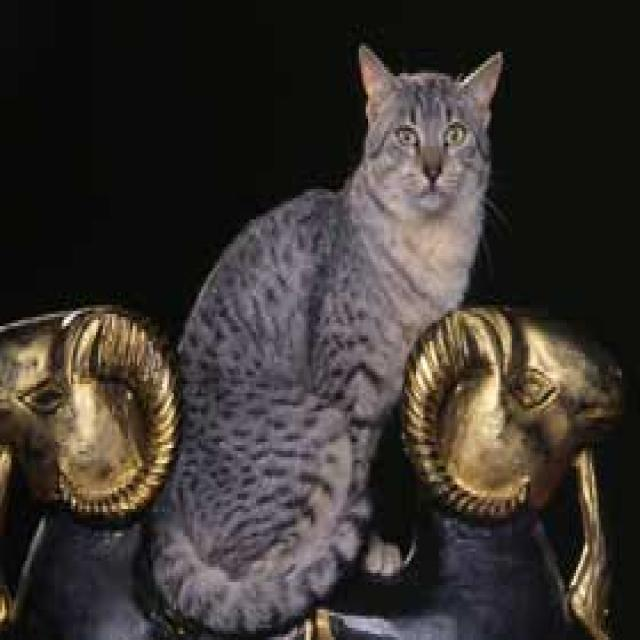Egyptian_Mau: (357, 37, 498, 207)
